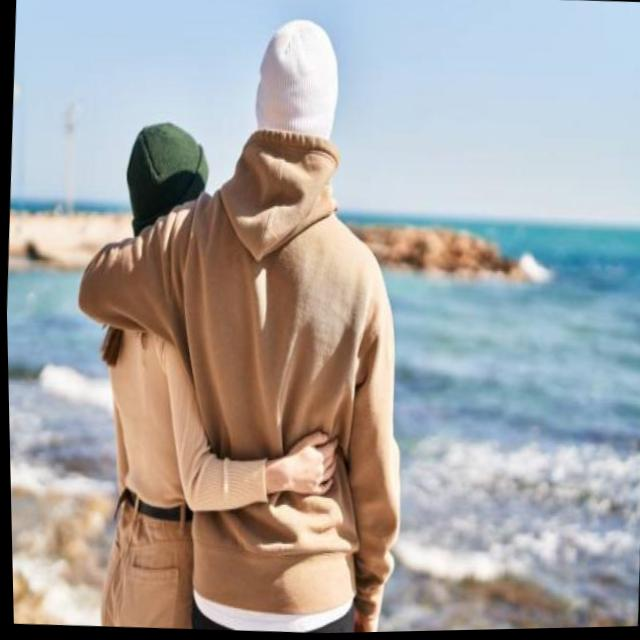no helmet: (246, 8, 353, 165), (115, 117, 218, 245)
